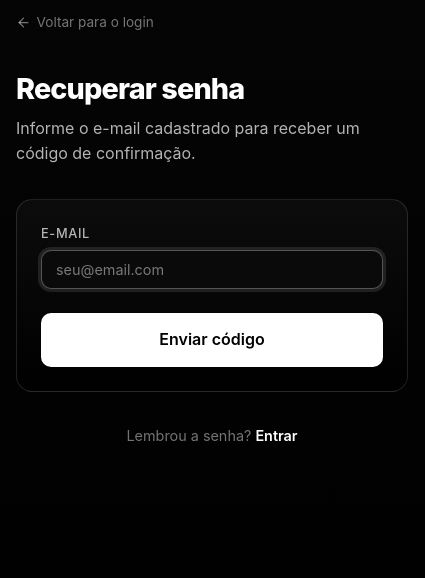
Test case: ForgotPassword Page › confirms the code and advances to the password step on success
The image size is (425, 578).
In the field labelled "E-mail": point(212, 270) [41,250,383,290], type "user@example.com"
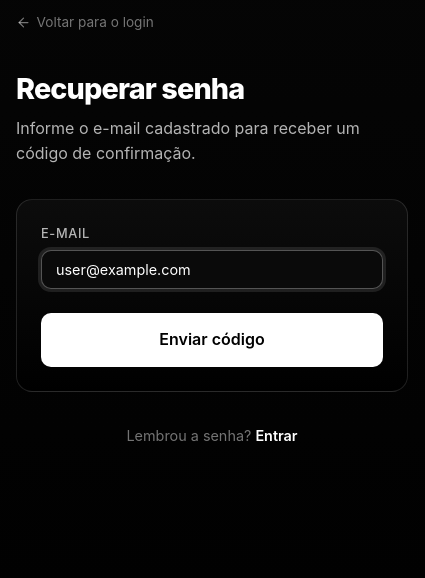
Click the button "Enviar código": point(212, 340) [41,314,383,367]
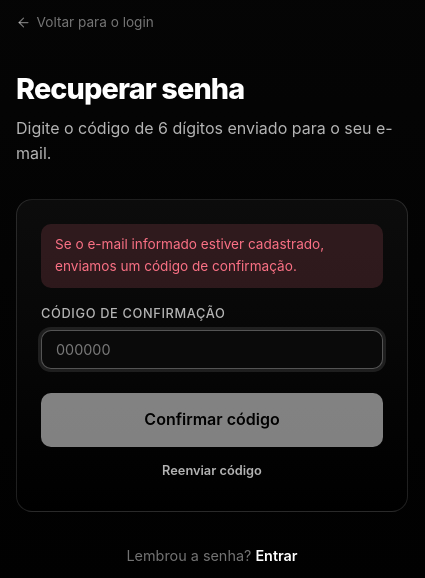
Now the field labelled "Código de confirmação" is shown
In the field labelled "Código de confirmação": point(212, 350) [41,330,383,369], type "123456"
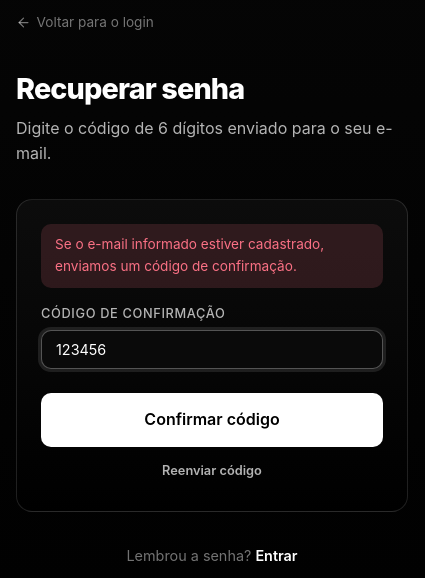
Click the button "Confirmar código": point(212, 420) [41,393,383,447]
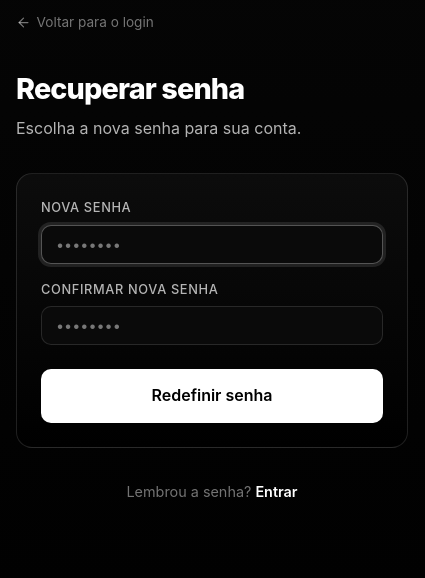
Now the password field labelled "Nova senha" is shown, box [41,225,383,264]
